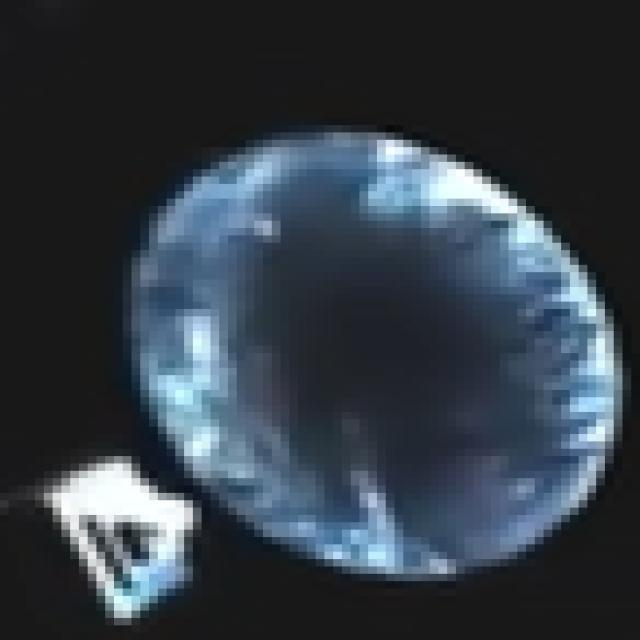large_debris: (116, 122, 633, 598)
medium_debris: (0, 443, 209, 630)
